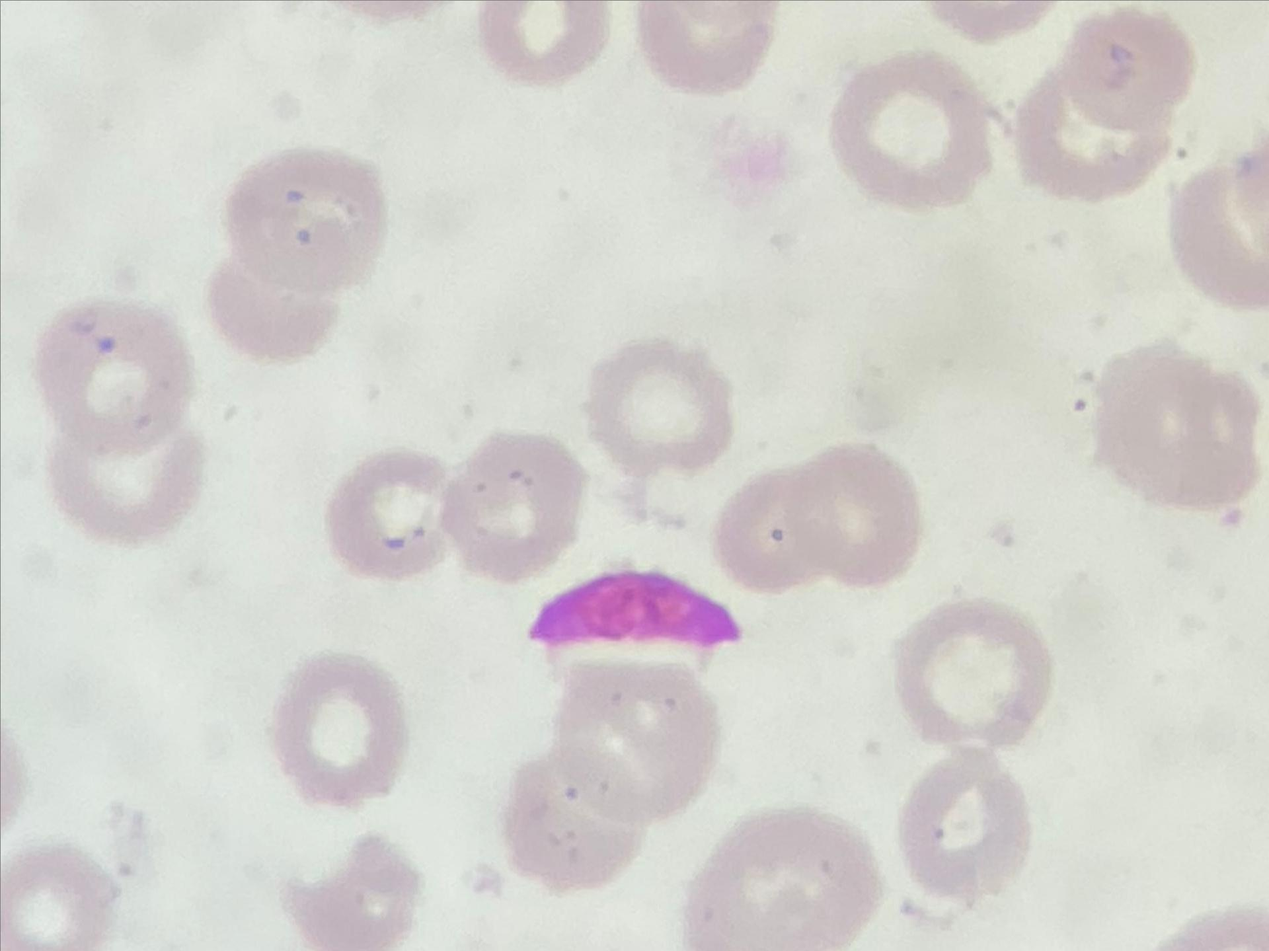Infected: (527, 567, 744, 659)
Uninfected: (682, 805, 881, 951), (554, 656, 718, 818), (1100, 351, 1264, 507), (833, 50, 989, 213), (33, 299, 191, 452), (1010, 53, 1167, 201), (899, 600, 1052, 749), (231, 146, 384, 291), (506, 742, 647, 893), (590, 336, 737, 479), (274, 651, 404, 808), (448, 433, 588, 577), (787, 441, 921, 585), (904, 749, 1033, 894), (50, 422, 202, 542), (330, 455, 465, 580), (1061, 7, 1193, 127), (207, 250, 348, 362), (715, 468, 833, 589), (638, 0, 773, 95), (478, 0, 610, 86)
